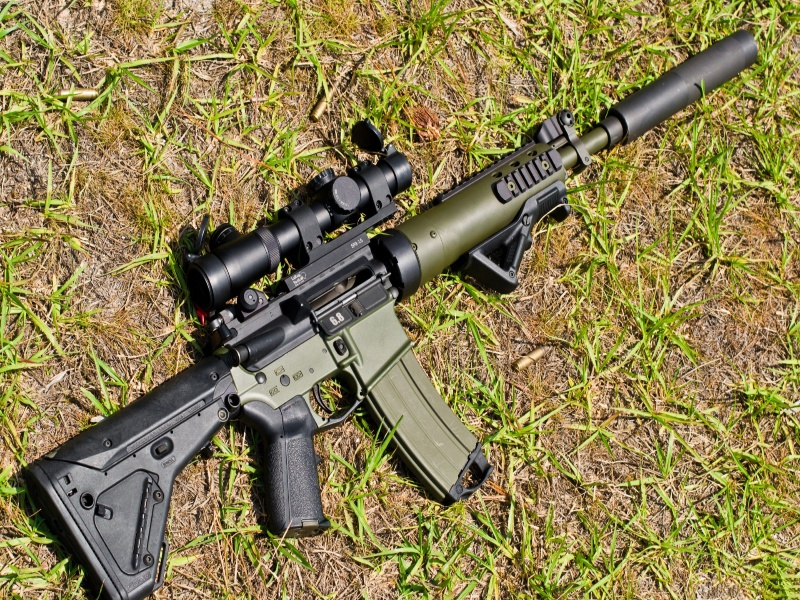weapon: (23, 30, 758, 599)
